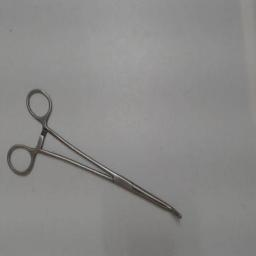Lahey Forceps: (4, 85, 186, 225)
